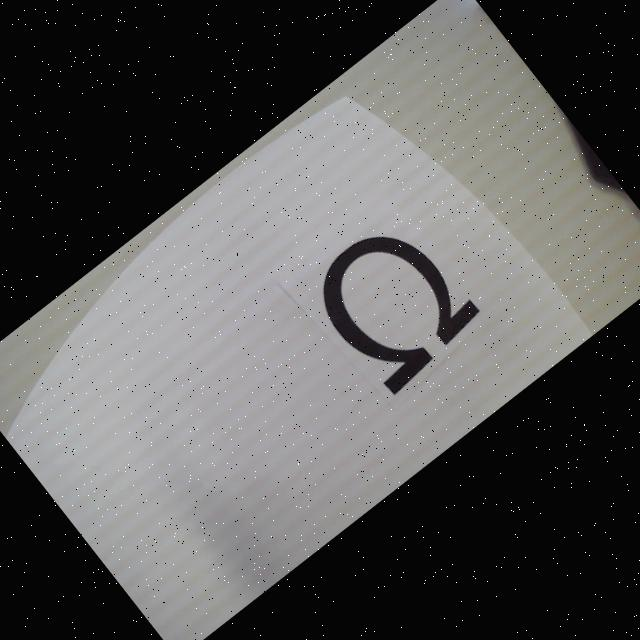OMEGA: (302, 208, 489, 398)
